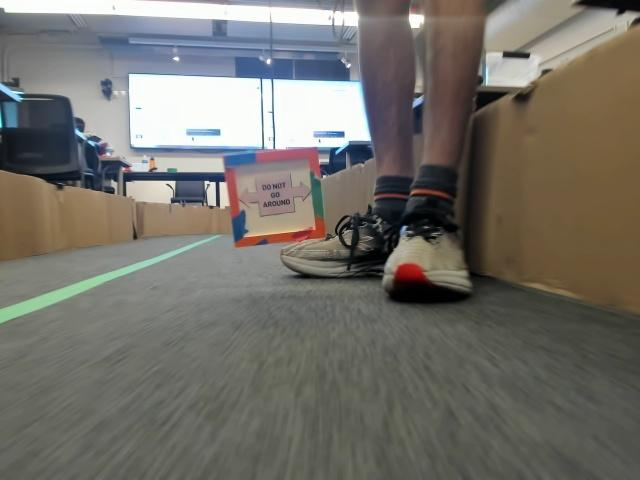Do Not Go Around: (238, 180, 308, 218)
